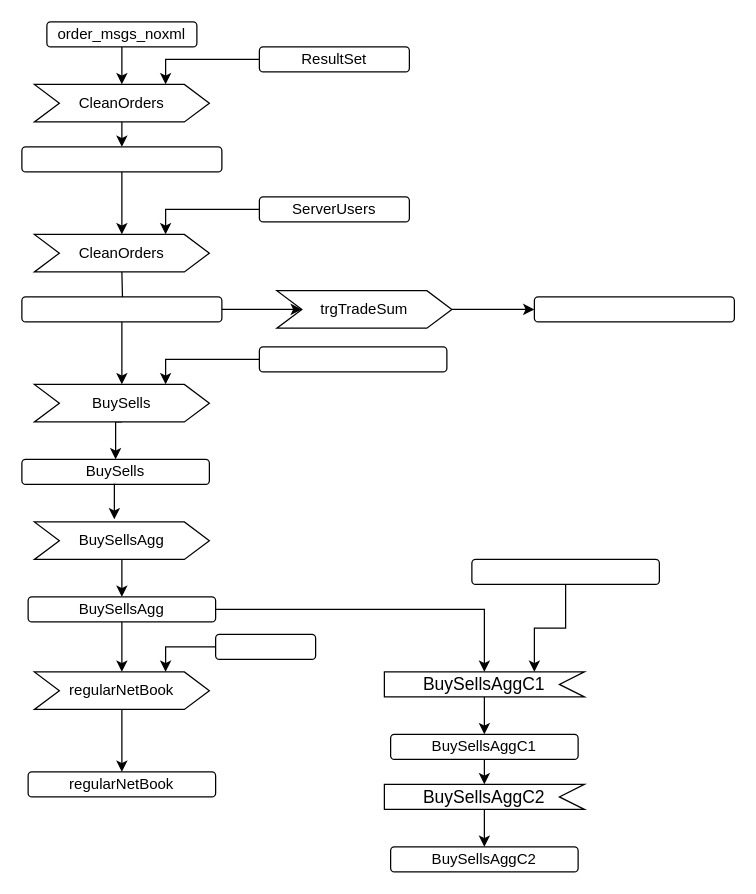
This 756x894 diagram has some shape labels left out. Each missing label, with the box of its shape:
conrevNetBookDelta: (471, 558, 659, 584)
MasterExpenseParams: (258, 346, 447, 372)
nse_tbt_snap: (214, 633, 316, 659)
order_msgs_noxml_clean: (21, 146, 222, 172)
TradeBook: (21, 296, 222, 322)
TradeSummary: (533, 296, 734, 322)
